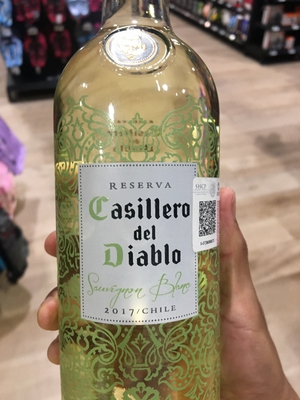casillero del diablo sauvignon blanc: (51, 6, 226, 400)
